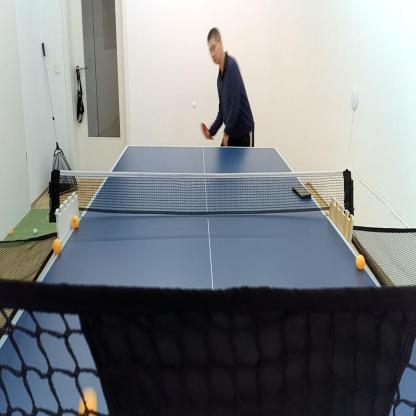Ball: (78, 385, 98, 416), (355, 252, 366, 272), (52, 236, 62, 255), (70, 213, 80, 230), (191, 101, 197, 110), (33, 228, 38, 236), (9, 227, 13, 236)
